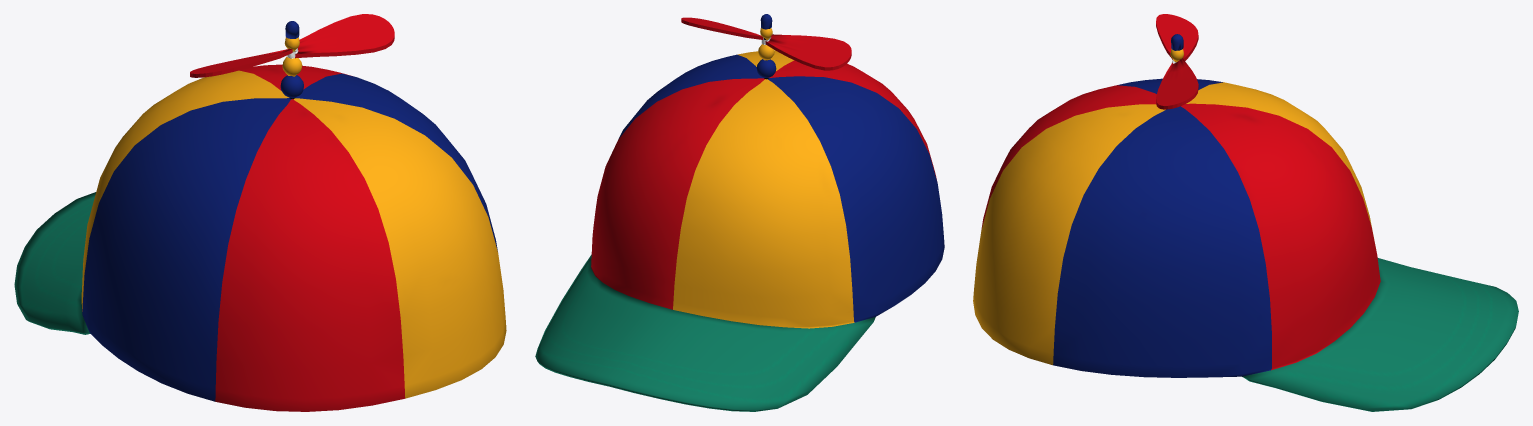
The model's file is Paintable_Hat.fbx.
3 views of the same model, side by side, from view 1: azimuth 30°, elevation 25°; view 2: azimuth 150°, elevation 25°; view 3: azimuth 270°, elevation 25° (orthographic). The views are drawn at different scales.
Visible parts, largest first — view 1: Paintable_Hat_LOD0; view 2: Paintable_Hat_LOD0; view 3: Paintable_Hat_LOD0.
Part boxes in pixels (x1,y1,x2,y2): Paintable_Hat_LOD0: [14, 14, 506, 411]; Paintable_Hat_LOD0: [535, 14, 944, 411]; Paintable_Hat_LOD0: [973, 14, 1518, 411].
Size of the model in its own units: 0.6133 by 0.9218 by 0.5808.
